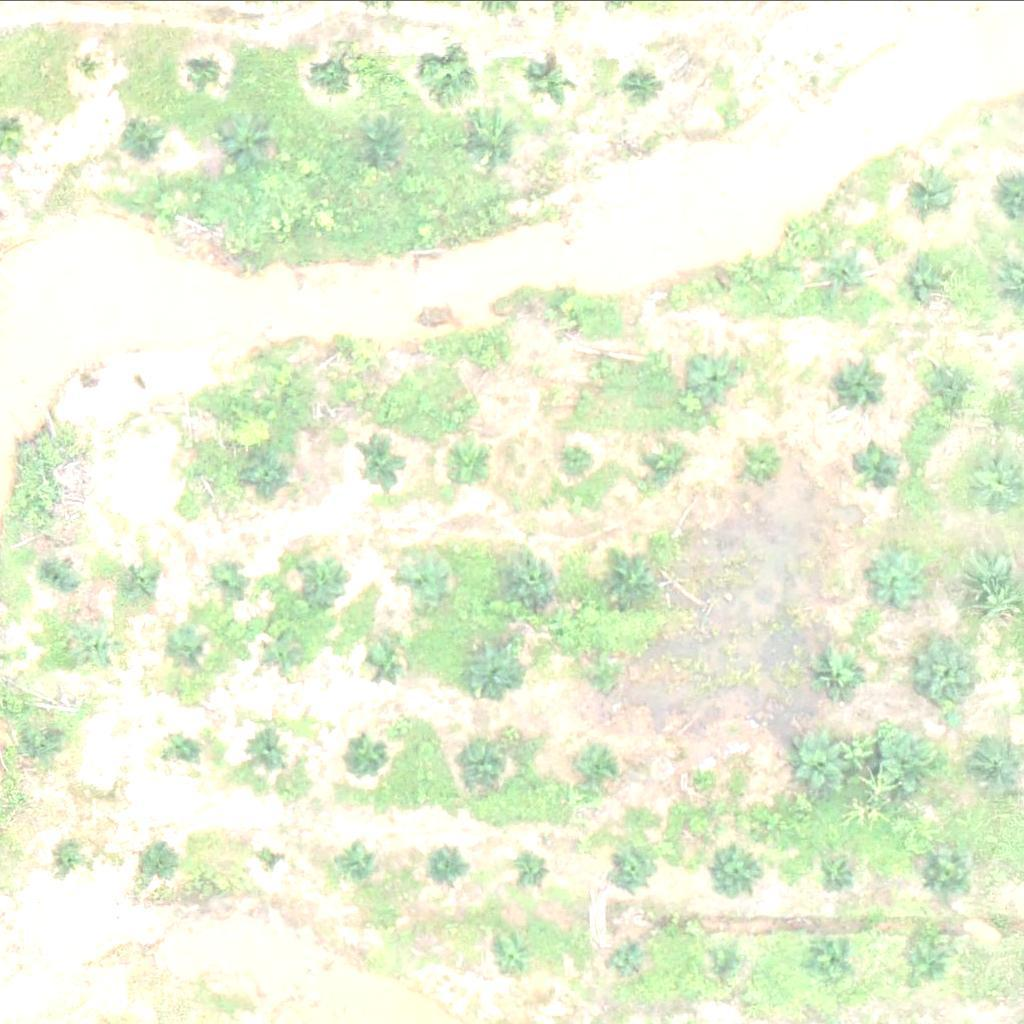Kelapa_Sawit: (462, 642, 525, 705), (815, 644, 878, 707), (915, 640, 978, 703), (398, 545, 461, 608), (791, 730, 854, 793), (867, 547, 930, 609), (880, 729, 943, 791), (505, 551, 556, 601), (608, 552, 659, 602), (710, 846, 761, 896), (640, 441, 691, 491), (459, 739, 510, 789), (340, 727, 391, 777), (296, 550, 346, 600), (920, 850, 970, 900), (828, 357, 878, 407), (853, 439, 903, 489), (900, 932, 950, 982), (823, 250, 873, 300), (692, 351, 742, 401), (908, 254, 958, 304), (907, 168, 957, 218), (932, 360, 982, 410), (812, 846, 862, 896), (808, 933, 858, 983), (317, 49, 367, 99), (426, 51, 476, 101), (360, 437, 410, 487), (450, 439, 500, 489), (225, 115, 275, 165), (245, 446, 295, 496), (476, 113, 526, 163), (730, 254, 768, 292), (741, 442, 779, 480), (707, 947, 745, 985), (531, 64, 569, 102), (622, 63, 660, 101), (582, 350, 620, 388), (469, 340, 507, 378), (344, 334, 382, 372), (126, 123, 164, 161), (48, 836, 86, 874), (434, 842, 472, 880), (514, 848, 552, 886), (162, 724, 200, 762), (204, 556, 242, 594), (117, 556, 155, 594), (42, 557, 80, 595), (578, 748, 616, 786), (544, 287, 582, 324), (364, 124, 402, 161), (143, 846, 180, 884), (259, 837, 296, 875), (343, 840, 380, 878), (246, 728, 283, 766), (42, 714, 80, 751), (79, 629, 117, 666), (171, 624, 209, 661), (267, 634, 305, 671), (491, 936, 529, 973), (584, 653, 622, 690), (610, 852, 648, 889), (608, 944, 646, 981), (563, 441, 600, 478), (371, 643, 408, 680), (81, 51, 106, 76), (193, 57, 218, 82)
